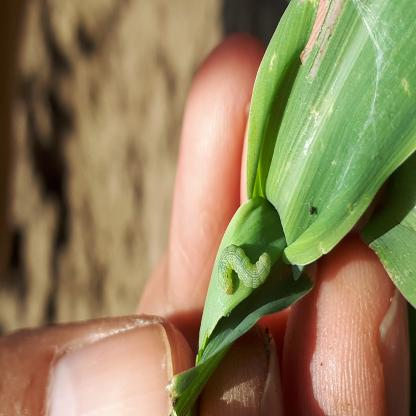armyworm: (69, 382, 96, 416)
